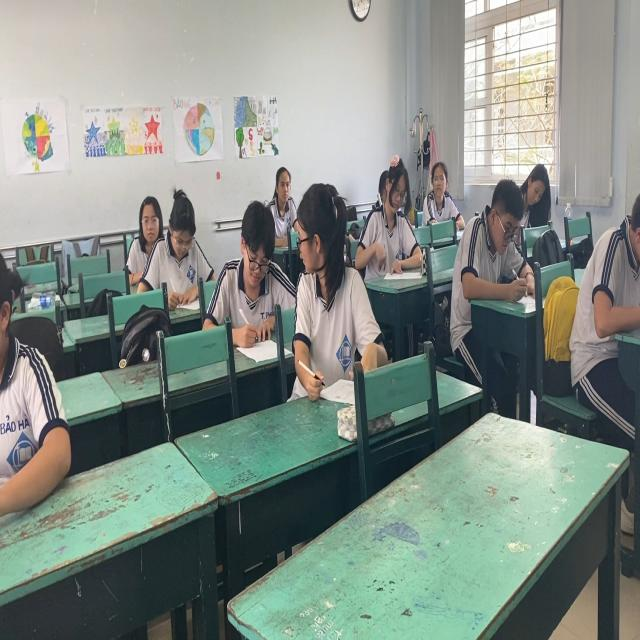cheating: (286, 188, 366, 396)
not_cheating: (222, 205, 290, 326), (456, 171, 527, 281), (358, 157, 424, 267), (156, 185, 212, 291), (418, 154, 467, 236), (124, 189, 170, 250), (520, 164, 552, 229), (267, 164, 294, 226)
